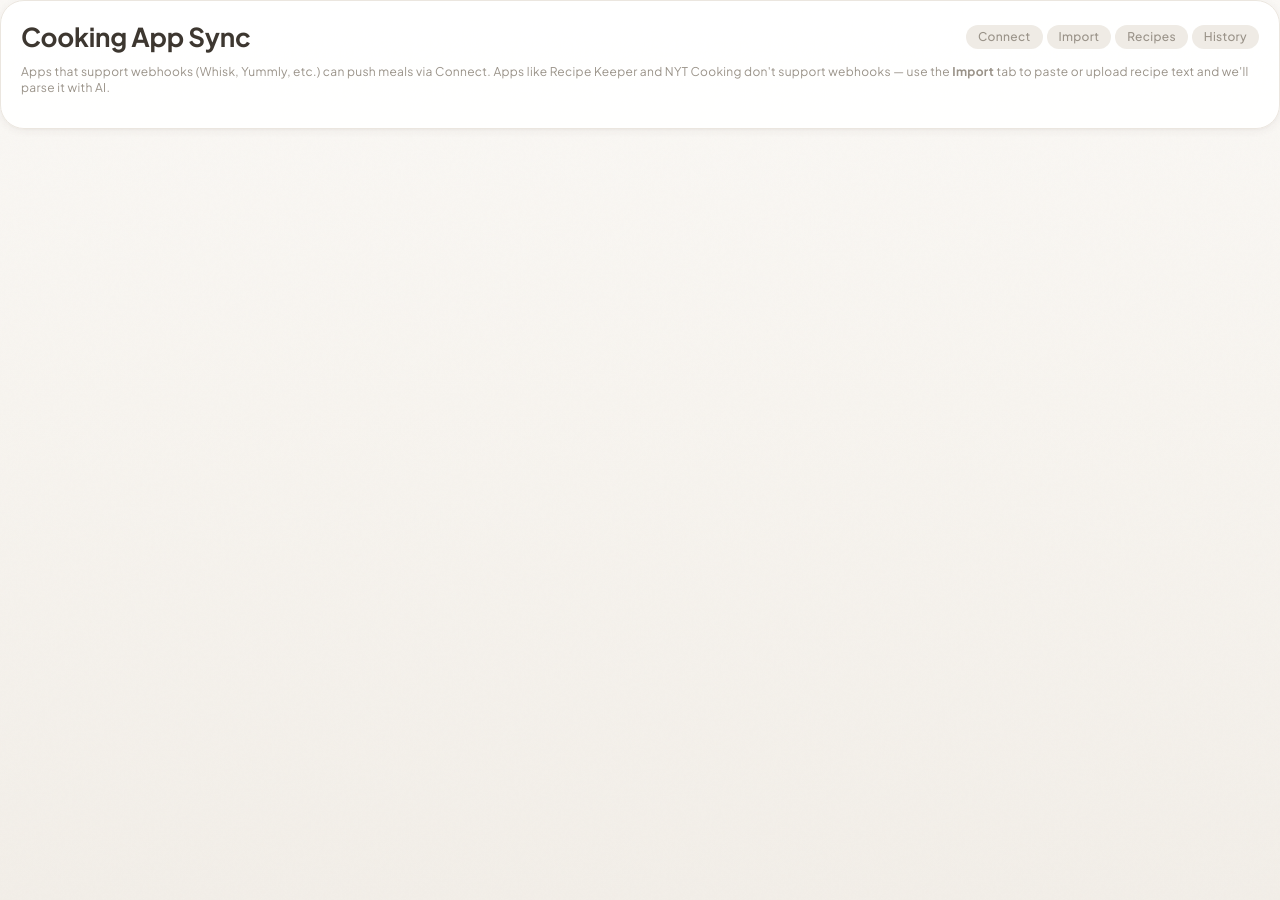
Test: CookingAppSync › toggles tab off when clicked again
Click the button "Import".
click(1079, 37)  # box [1046,25,1111,49]
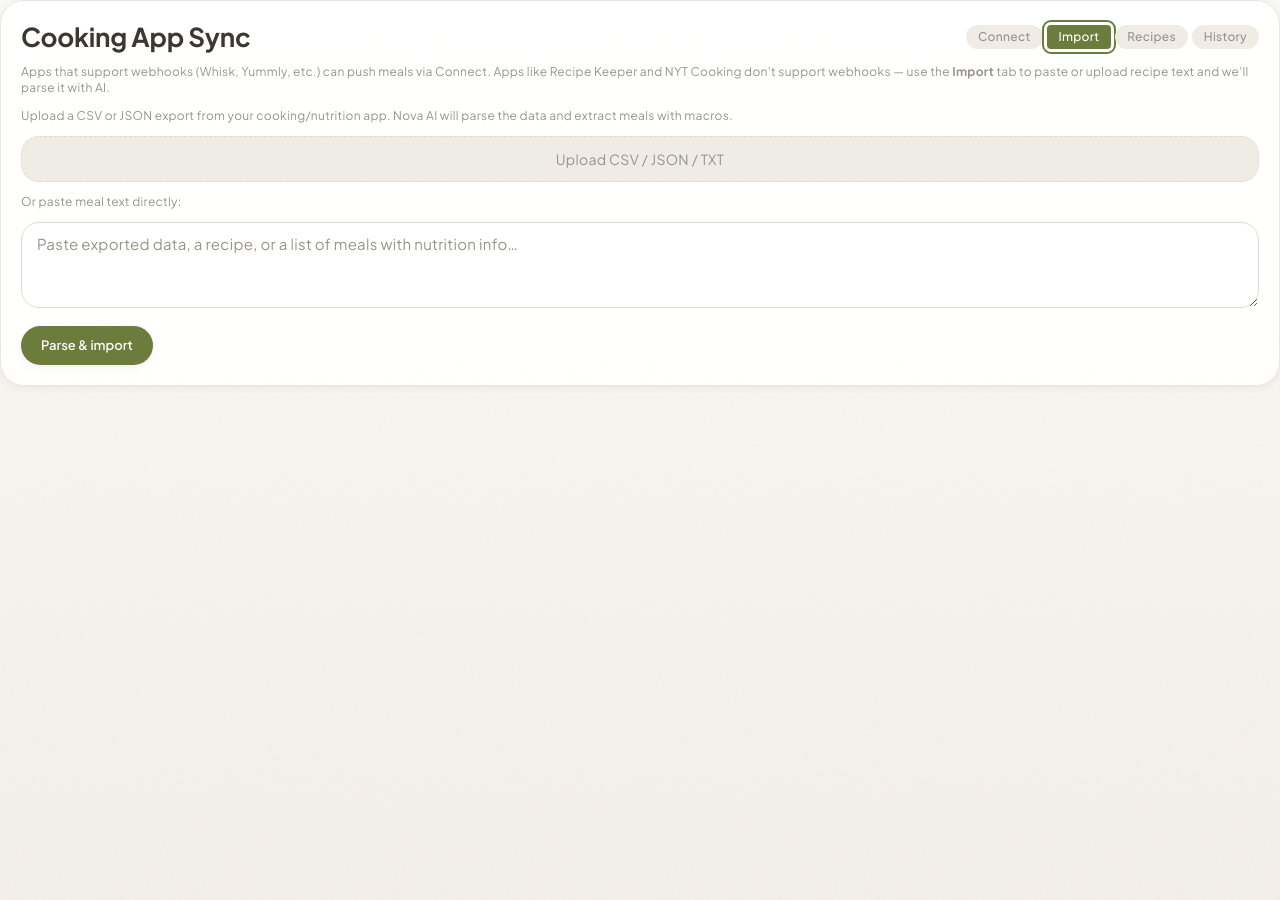
Expected: the text "Upload a CSV or JSON export" is shown, [21,108,733,123]
Click the button "Import".
click(1079, 37)  # box [1046,25,1111,49]
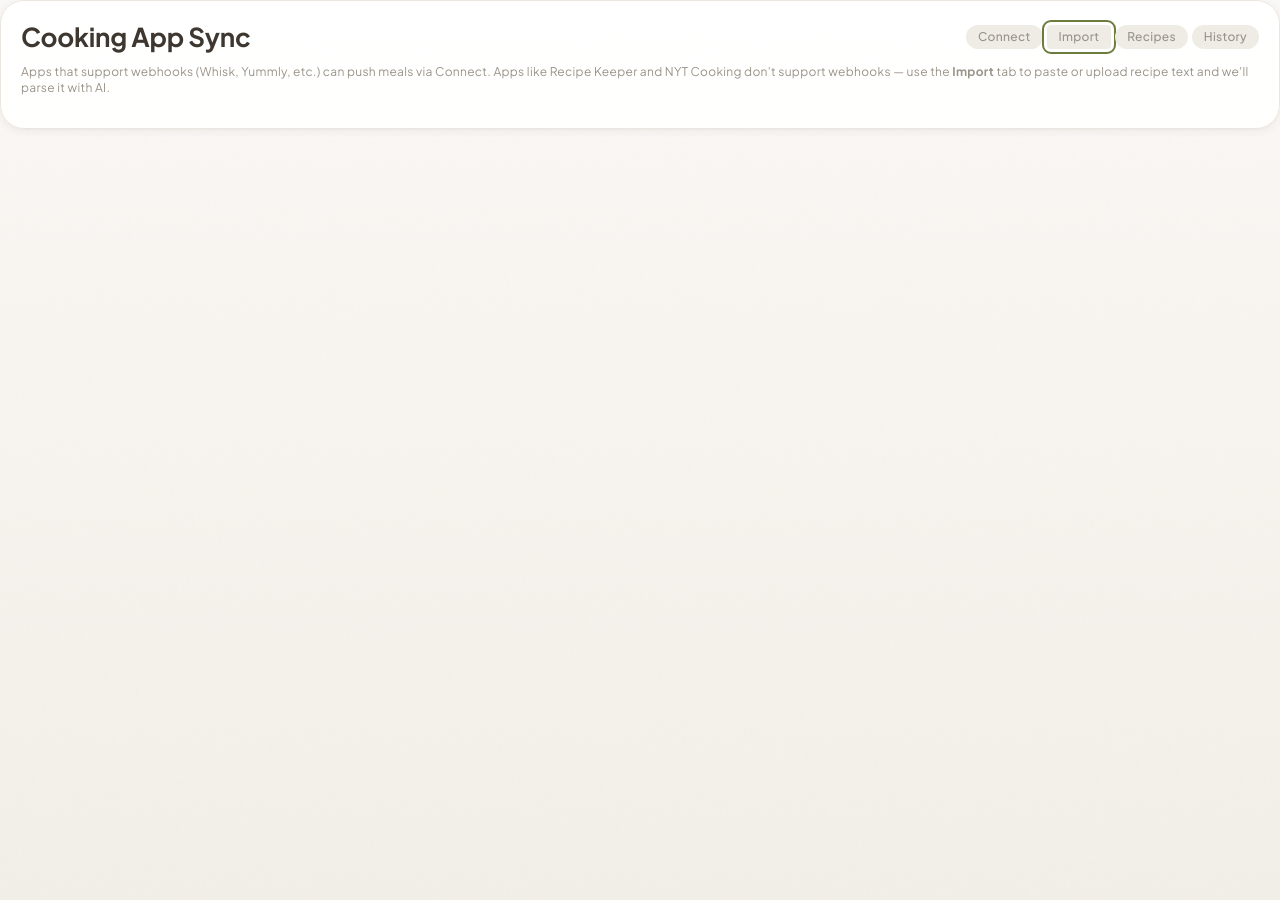
Expected: the text "Upload a CSV or JSON export" is gone
